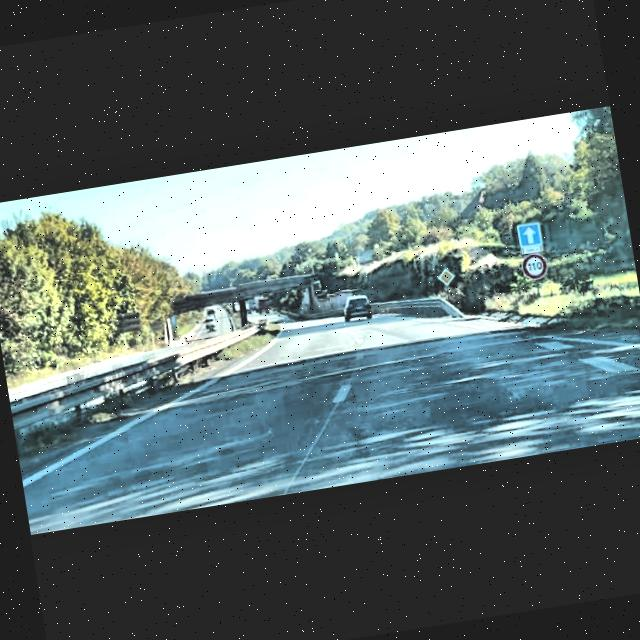speed_110: (521, 252, 549, 280)
